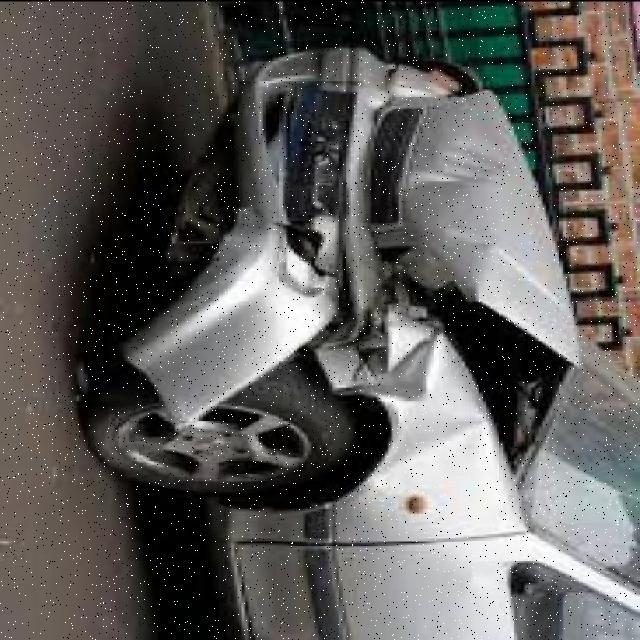damage: (106, 41, 584, 494)
